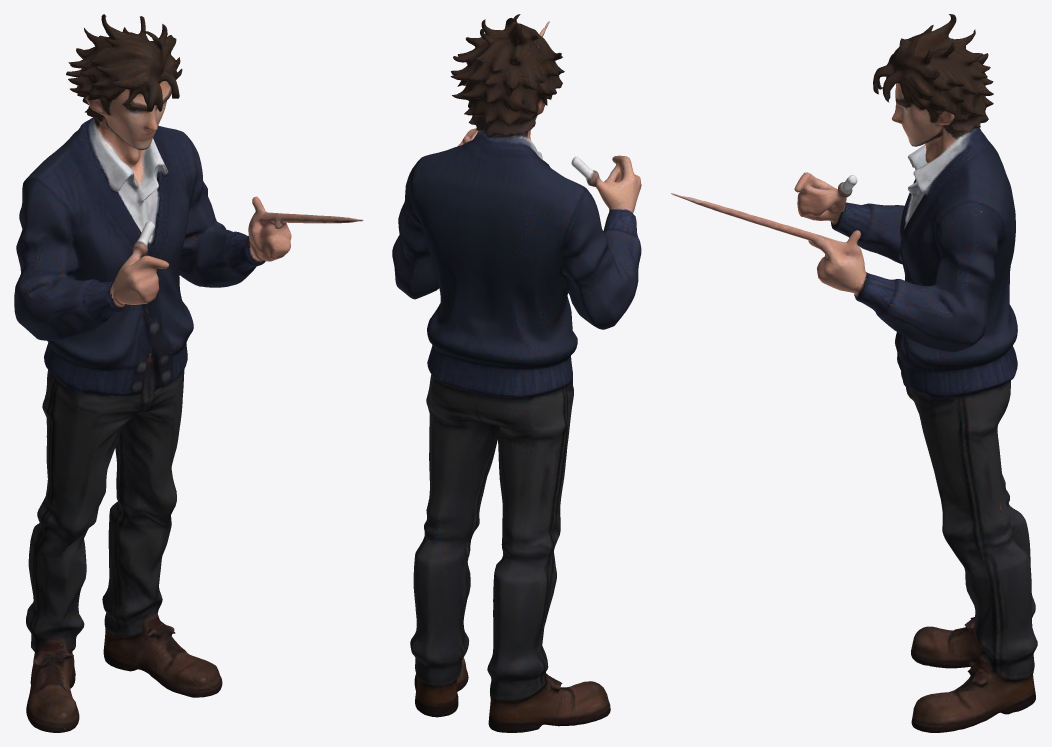
Rendered from neutral_teacher.glb.
3 renders of one model, left to right at view 1: azimuth 30°, elevation 25°; view 2: azimuth 150°, elevation 25°; view 3: azimuth 270°, elevation 25°, orthographic. The views are drawn at different scales.
Size of the model in its own units: 0.3295 by 0.9775 by 0.4844.
Materials: 1 (1 with a texture image).
